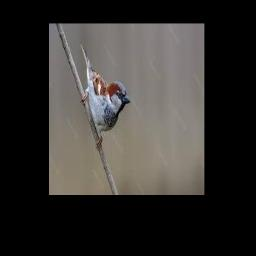Sparrow: (80, 44, 130, 150)
